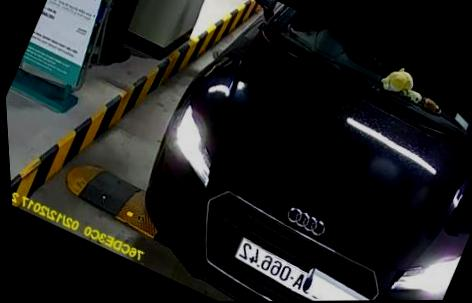License_Plate: (233, 237, 327, 296)
